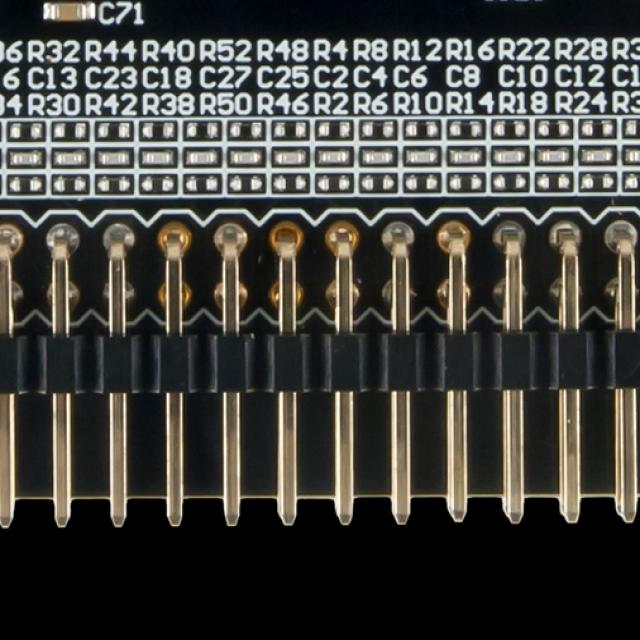capacitor: (311, 142, 356, 169), (355, 142, 400, 169), (178, 143, 224, 169), (135, 143, 180, 169), (268, 142, 311, 169), (443, 142, 487, 168), (487, 142, 531, 168), (574, 143, 619, 168), (224, 143, 267, 169), (531, 142, 574, 168), (400, 142, 442, 168), (4, 145, 47, 170), (47, 145, 91, 169), (91, 145, 135, 169), (41, 0, 93, 20), (618, 142, 640, 166), (0, 145, 4, 169)
connector: (0, 207, 640, 524)
resistor: (135, 116, 180, 144), (92, 116, 136, 144), (178, 169, 224, 195), (398, 169, 443, 195), (92, 170, 136, 196), (443, 115, 487, 141), (487, 115, 531, 141), (355, 116, 400, 141), (398, 116, 443, 141), (574, 168, 619, 193), (311, 117, 356, 142), (224, 169, 267, 195), (531, 115, 574, 141), (354, 169, 400, 193), (443, 168, 487, 193), (267, 170, 311, 195), (267, 116, 311, 141), (136, 170, 178, 196), (576, 115, 618, 141), (178, 118, 223, 142), (222, 118, 267, 142), (4, 171, 47, 196), (48, 171, 91, 196), (487, 169, 531, 193), (4, 119, 47, 143), (48, 118, 91, 142), (531, 169, 574, 193), (311, 170, 354, 193), (618, 166, 640, 194), (618, 115, 640, 141), (0, 172, 3, 197), (0, 119, 3, 143)
